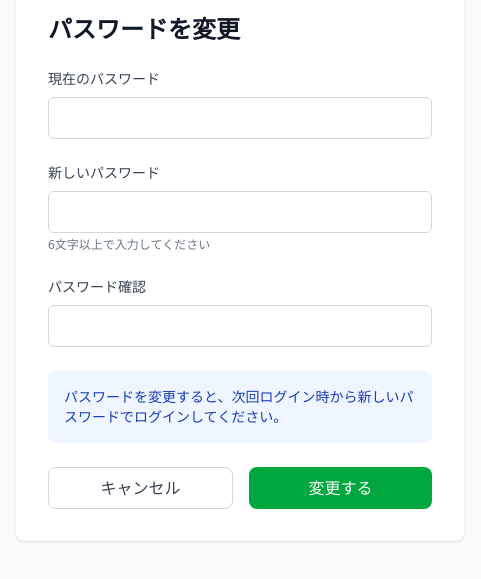
Test: ChangePassword › パスワード長が6文字未満の場合、バリデーションエラーが表示されること
In the password field labelled "現在のパスワード": x=240, y=118 [48,97,432,139], type "oldPassword123"
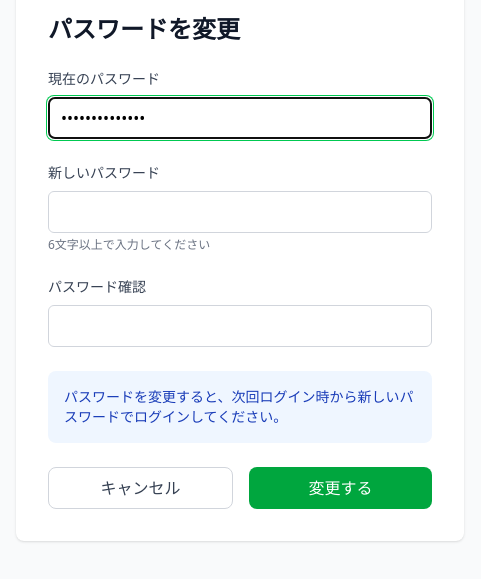
In the password field labelled "新しいパスワード": x=240, y=212 [48,191,432,233], type "pass"
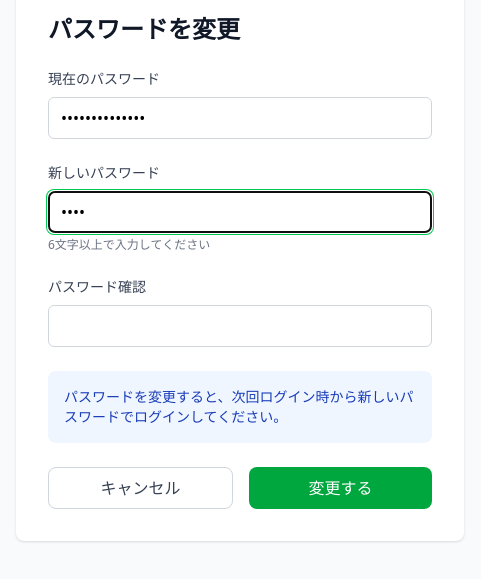
In the password field labelled "パスワード確認": x=240, y=326 [48,305,432,347], type "pass"
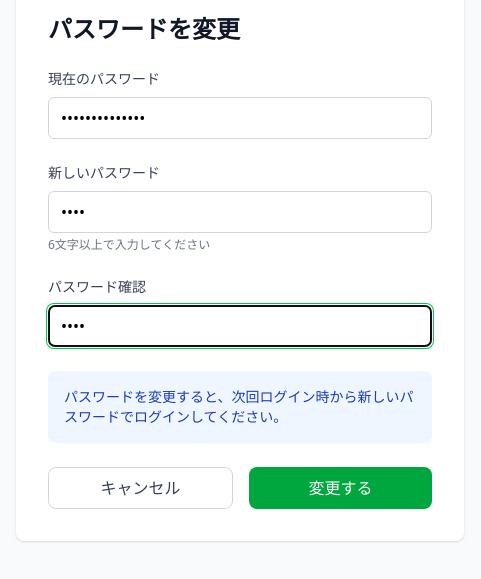
Click the button "変更する": x=340, y=488 [249,467,432,509]
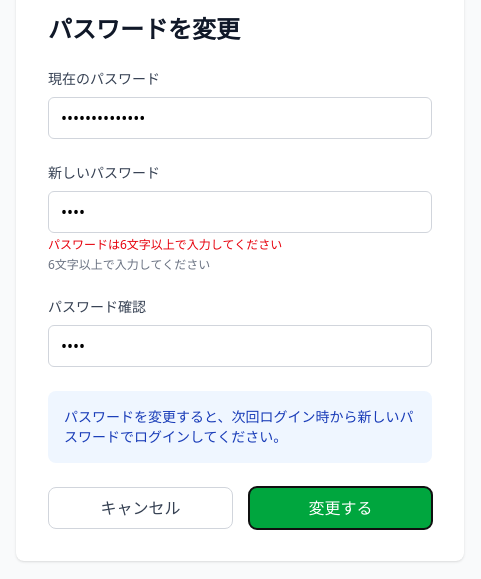
Expected: the text "パスワードは6文字以上で入力してください" is shown, [48,236,282,253]
